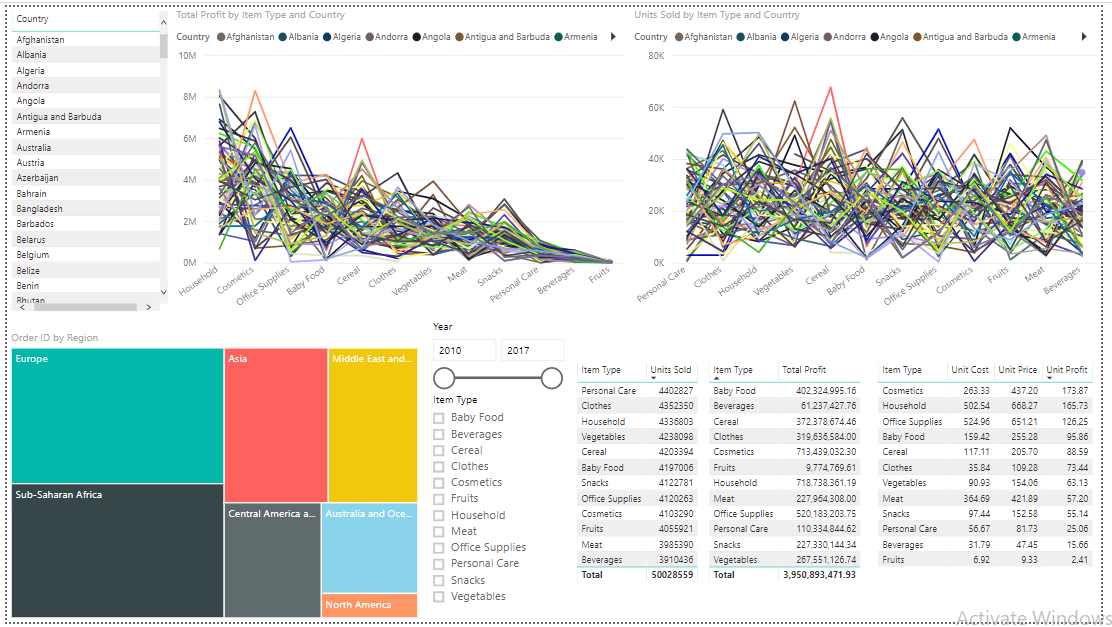

Layout of this report page (visuals, bound fields, positions):
{"tool":"powerbi","page":{"name":"Page 1","canvas":[1280,720],"ordinal":1},"visuals":[{"type":"lineChart","fields":{"Y":["Sum(Sales Records.Units Sold)"],"Category":["Sales Records.Item Type"],"Series":["Sales Records.Country"]},"box":[729.1,0,550.9,360.6],"z":2},{"type":"tableEx","fields":{"Values":["Sales Records.Item Type","Sum(Sales Records.Units Sold)"]},"box":[661.3,411.1,154.3,270.1],"z":3},{"type":"treemap","fields":{"Group":["Sales Records.Region"],"Values":["CountNonNull(Sales Records.Order ID)"]},"box":[0,377.9,485.7,342],"z":4},{"type":"lineChart","fields":{"Y":["Sum(Sales Records.Total Profit)"],"Category":["Sales Records.Item Type"],"Series":["Sales Records.Country"]},"box":[193.2,0,536.2,360.6],"z":5},{"type":"tableEx","fields":{"Values":["Sales Records.Item Type","Sum(Sales Records.Total Profit)"]},"box":[816,410.9,188.5,270.4],"z":6},{"type":"tableEx","fields":{"Values":["Sales Records.Item Type","Sales Records.Unit Cost","Sales Records.Unit Price","Sales Records.Unit Profit"]},"box":[1013.9,411.1,266.1,267.4],"z":6},{"type":"slicer","fields":{"Values":["Sales Records.Item Type"]},"box":[486,446,129.4,274],"z":7},{"type":"tableEx","fields":{"Values":["Sales Records.Country"]},"box":[0,0,192.9,360.6],"z":8},{"type":"slicer","fields":{"Values":["Sales Records.Order Date.Variation.Date Hierarchy.Year"]},"box":[485.7,360.6,175.6,99.8],"z":9}]}

Visuals, with their boxes on the page's 1280x720 design canvas (x1, y1, x2, y2). These are canvas units, not pixel positions in the 1112x627 screenshot, which may show the page scaled, cropped or inside an application window:
lineChart - Sum(Sales Records.Units Sold) x Sales Records.Item Type: <bbox>729, 0, 1280, 361</bbox>
tableEx - Sales Records.Item Type x Sum(Sales Records.Units Sold): <bbox>661, 411, 816, 681</bbox>
treemap - Sales Records.Region x CountNonNull(Sales Records.Order ID): <bbox>0, 378, 486, 720</bbox>
lineChart - Sum(Sales Records.Total Profit) x Sales Records.Item Type: <bbox>193, 0, 729, 361</bbox>
tableEx - Sales Records.Item Type x Sum(Sales Records.Total Profit): <bbox>816, 411, 1004, 681</bbox>
tableEx - Sales Records.Item Type x Sales Records.Unit Cost: <bbox>1014, 411, 1280, 678</bbox>
slicer - Sales Records.Item Type: <bbox>486, 446, 615, 720</bbox>
tableEx - Sales Records.Country: <bbox>0, 0, 193, 361</bbox>
slicer - Sales Records.Order Date.Variation.Date Hierarchy.Year: <bbox>486, 361, 661, 460</bbox>
